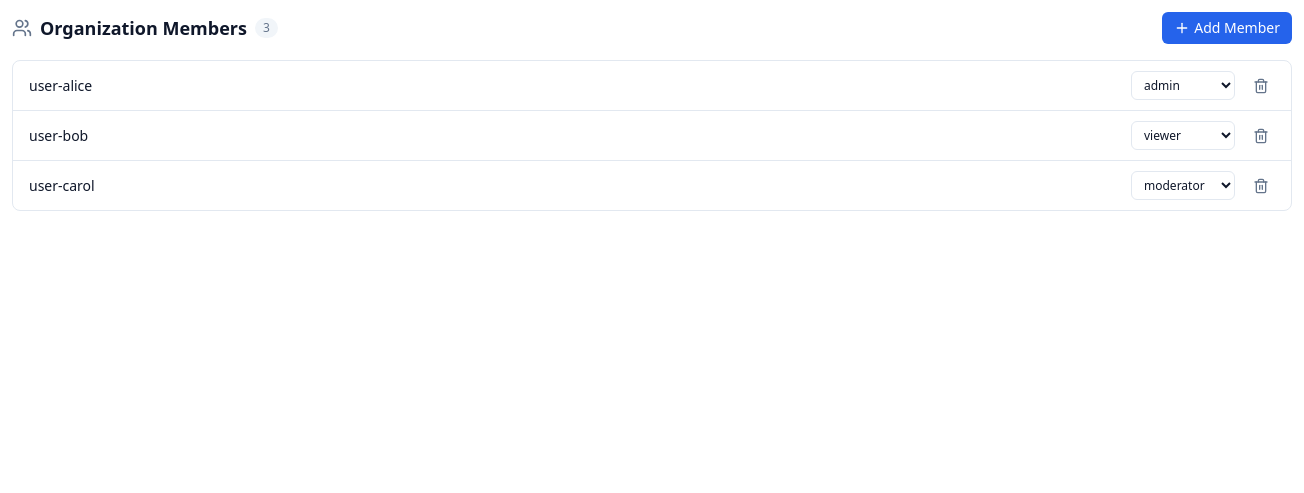
Test: MembershipManager › shows error for empty user ID
Click the button with test id "member-add-toggle": (1227, 28) [1162,12,1292,44]
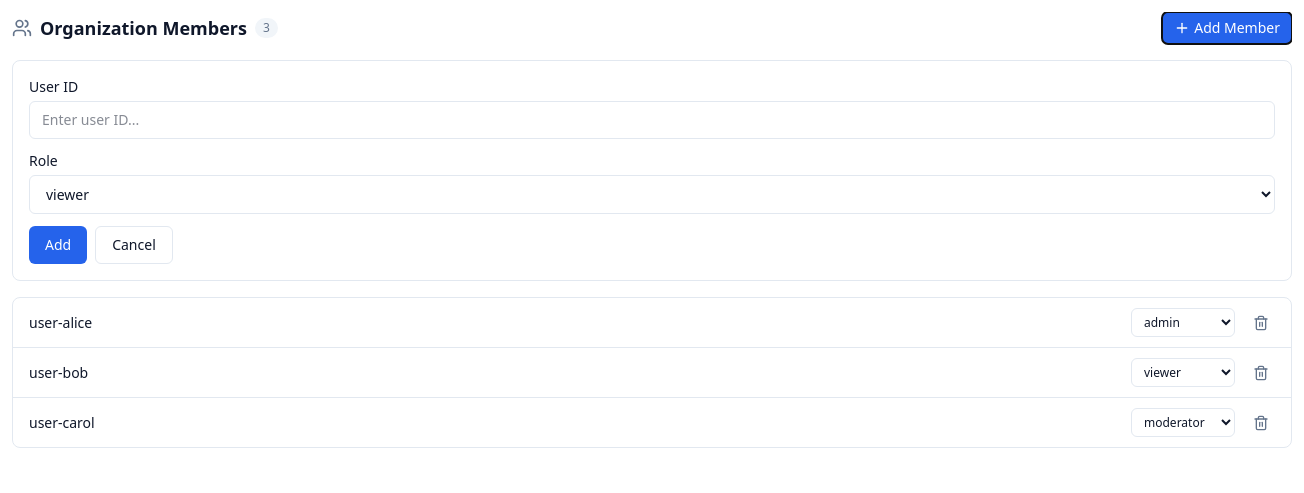
Click the button with test id "member-save-btn": (58, 245) [29,226,87,264]
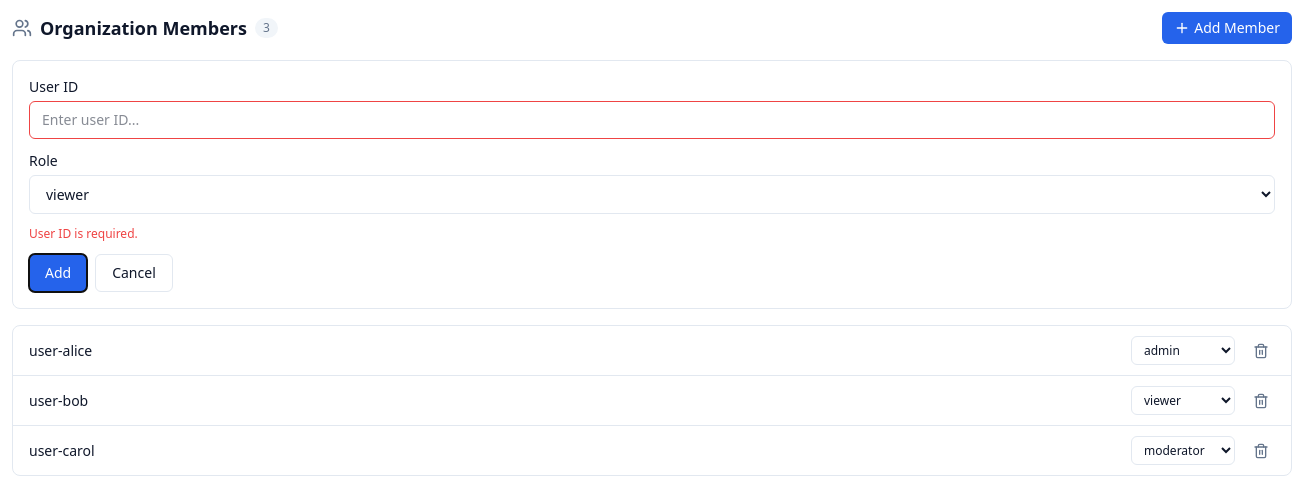
Result: the text with test id "member-error" reads "User ID is required." at [29,225,138,242]
